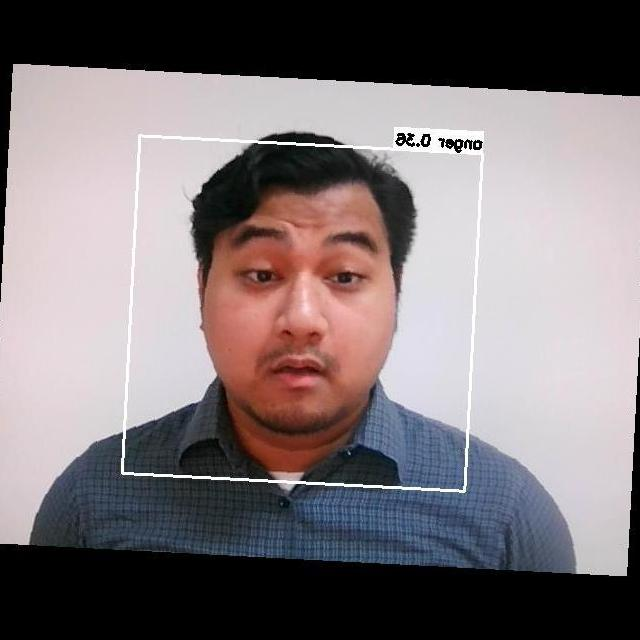Surprised: (204, 211, 399, 402)
